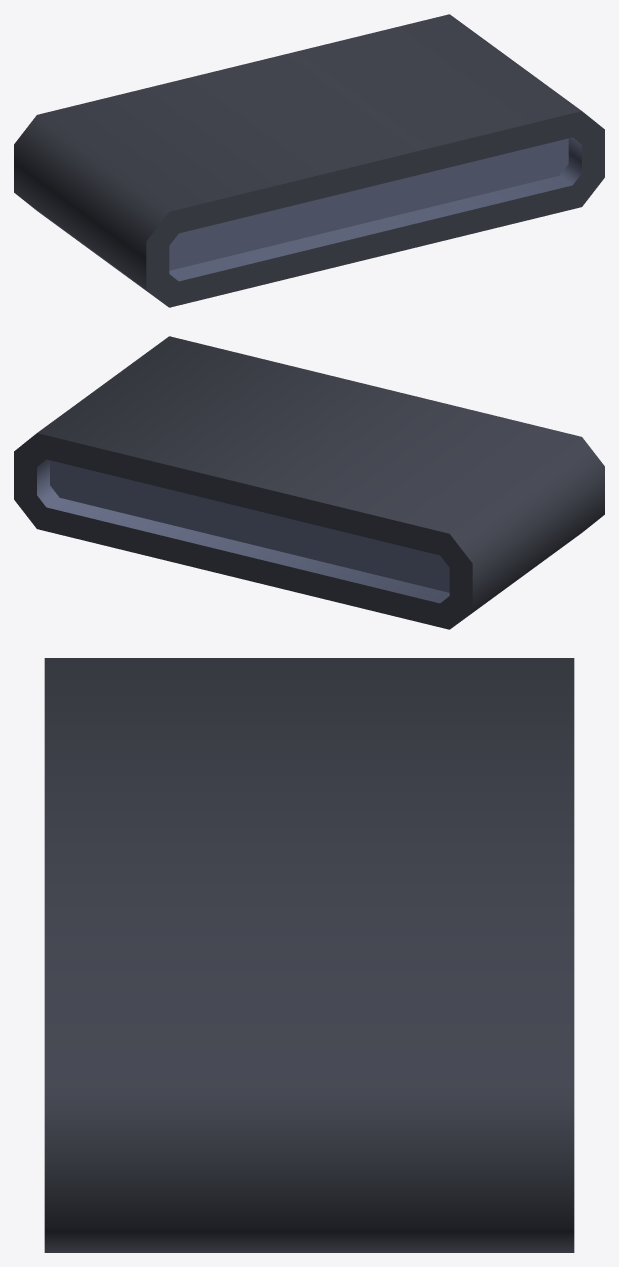
The model's file is ConveyorLong-transformed.glb.
3 views of the same model, one above another, from view 1: azimuth 30°, elevation 25°; view 2: azimuth 150°, elevation 25°; view 3: azimuth 270°, elevation 25° (orthographic). The views are drawn at different scales.
Parts seen in each view (by area): view 1: conveyor-long; view 2: conveyor-long; view 3: conveyor-long.
Boxes of the visible parts, x1,y1,x2,y2 form: conveyor-long: (14,14,604,307); conveyor-long: (14,336,604,629); conveyor-long: (44,658,574,1252).
Size of the model in its own units: 2 by 0.4 by 1.
